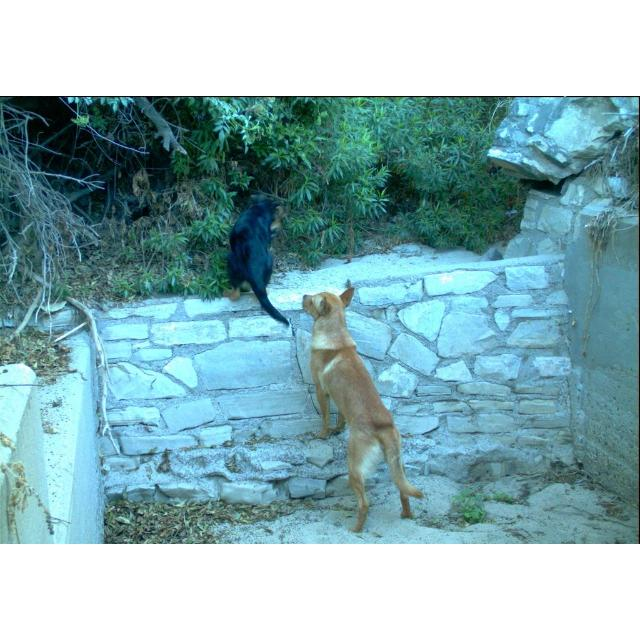animals: (301, 286, 425, 534), (230, 190, 294, 328)
